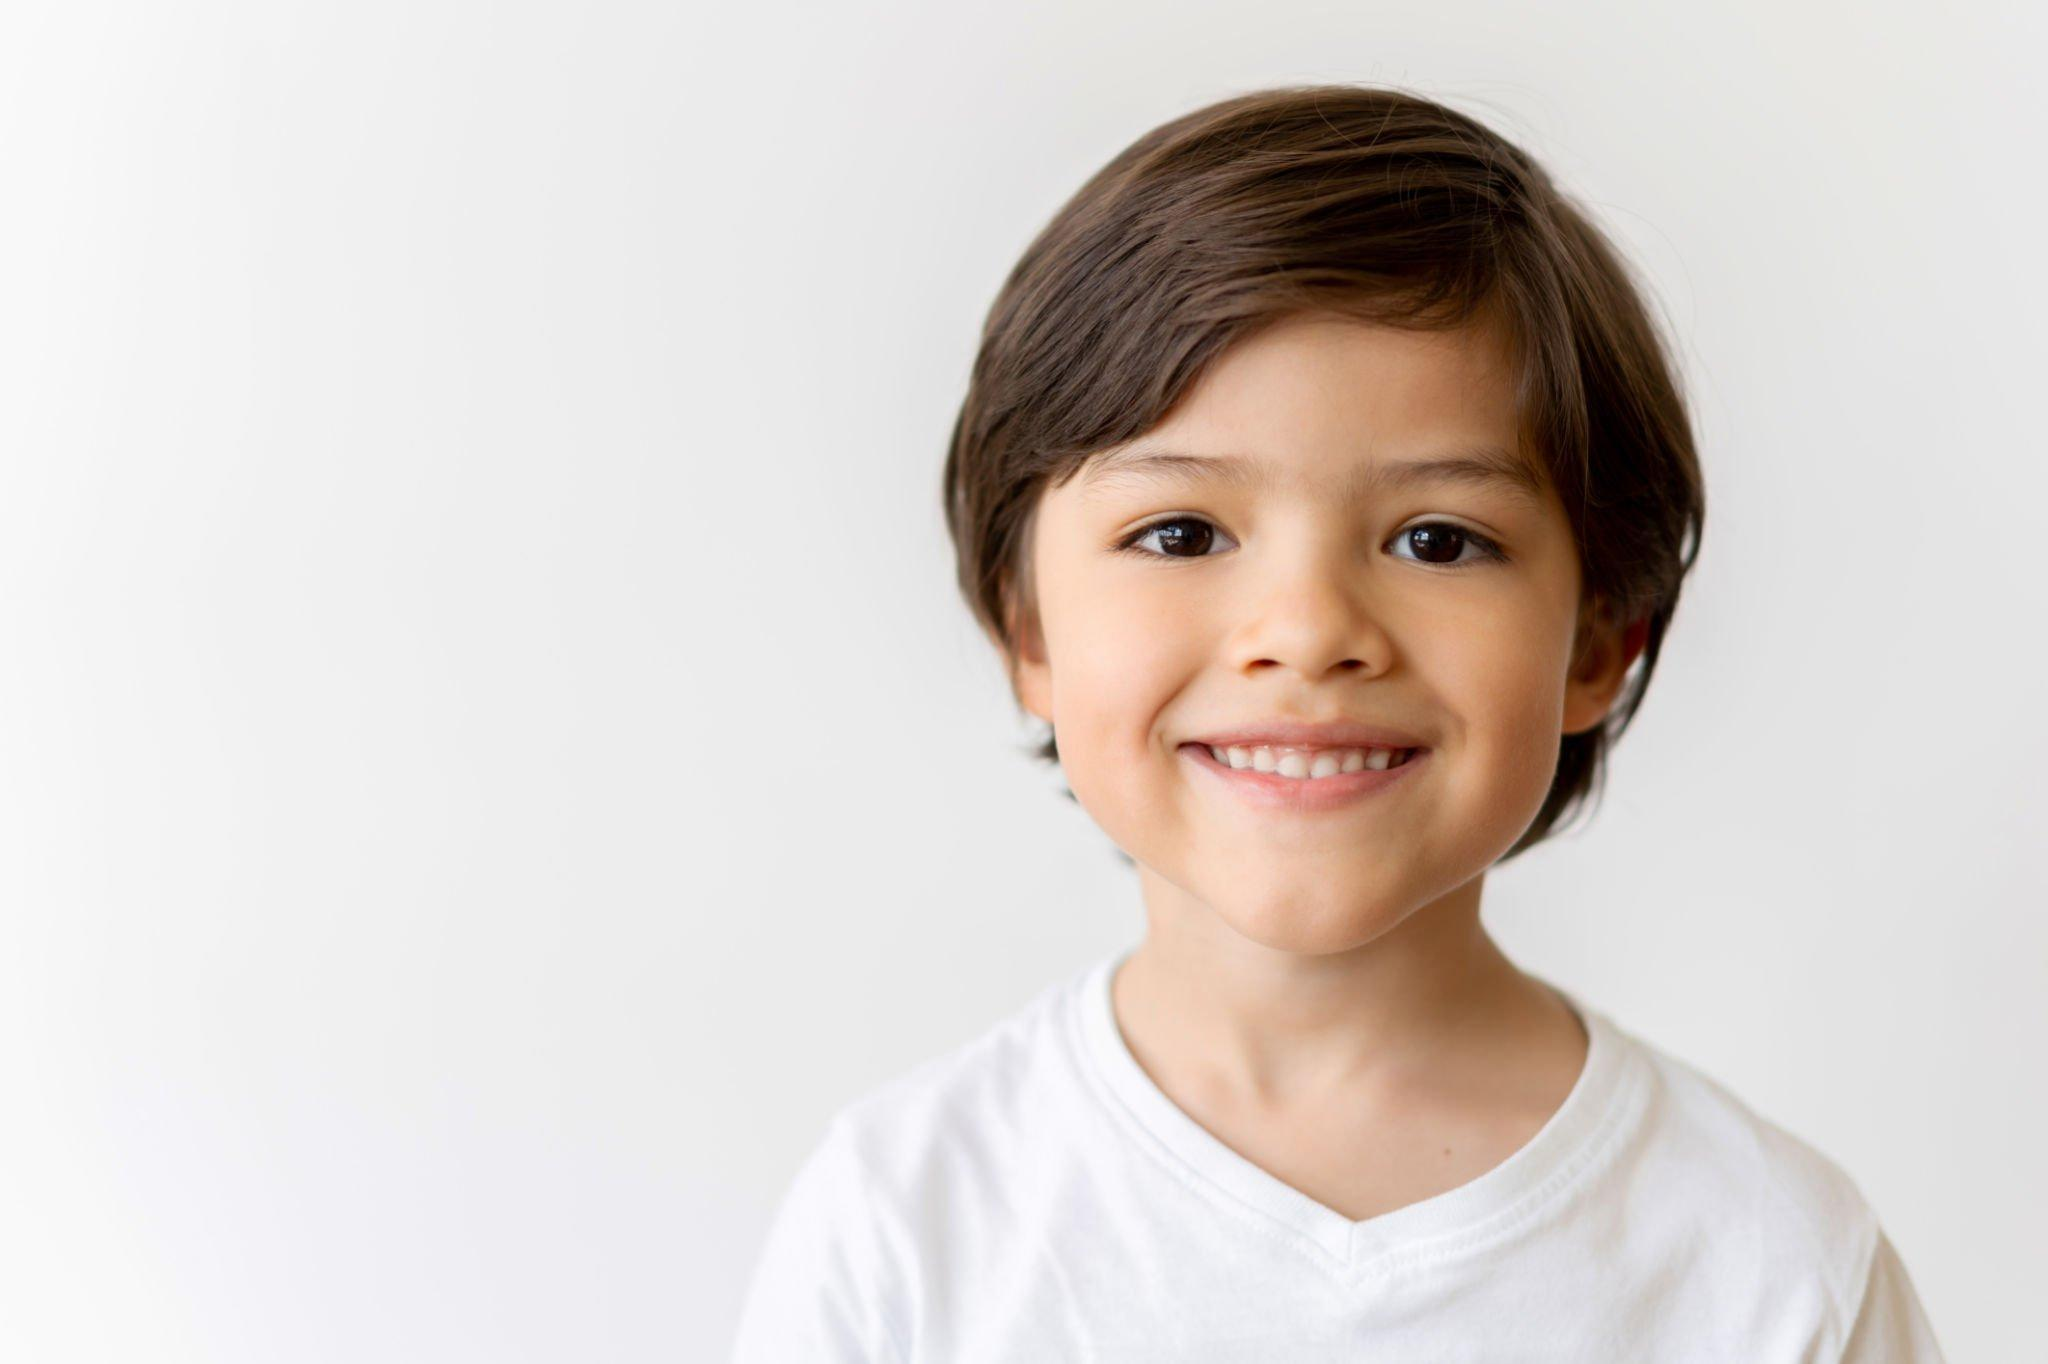Healthy: (966, 172, 1683, 1015)
